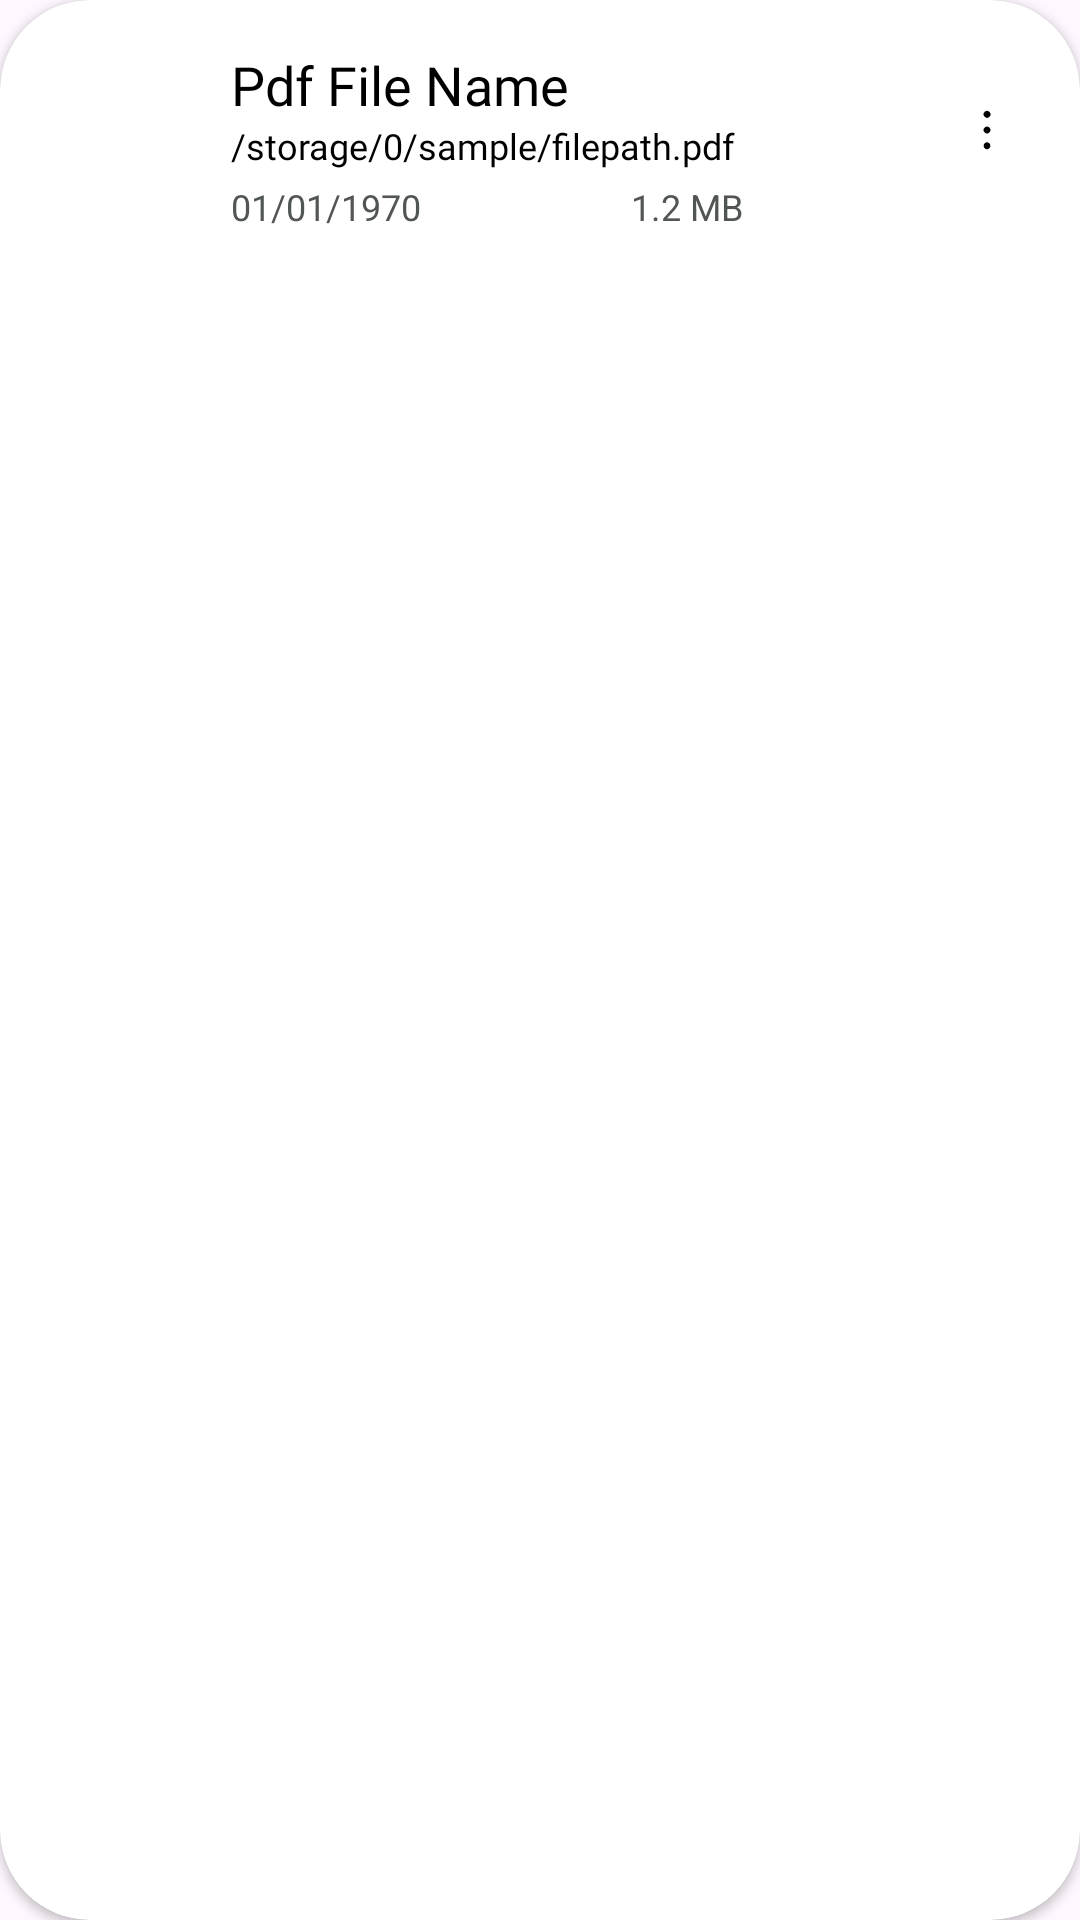

Point at icon controls on the screen. Image size 1080*1920, points as [x,y].
three dot: [987,130]
